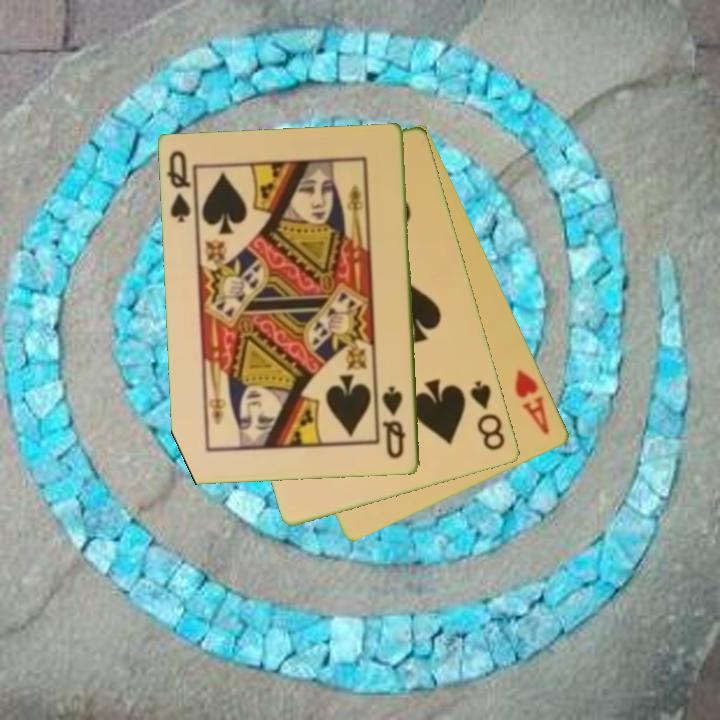8s: (467, 377, 509, 454)
Ah: (511, 366, 553, 438)
Qs: (379, 383, 409, 462), (164, 148, 194, 226)
